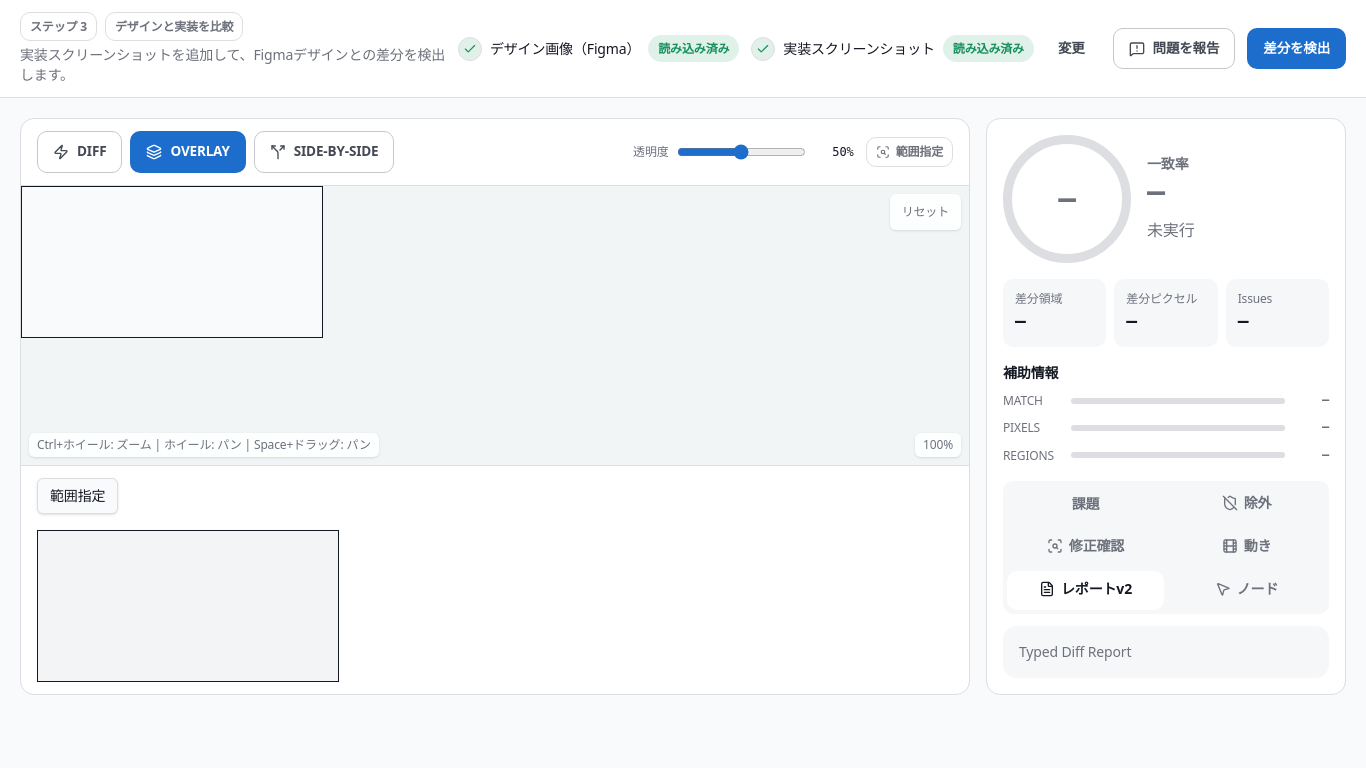
Test: ComparePage › 課題タブは比較結果がない場合の案内を表示する
Click the button "課題" at (1086, 504), box x1=1007 y1=485 x2=1164 y2=524
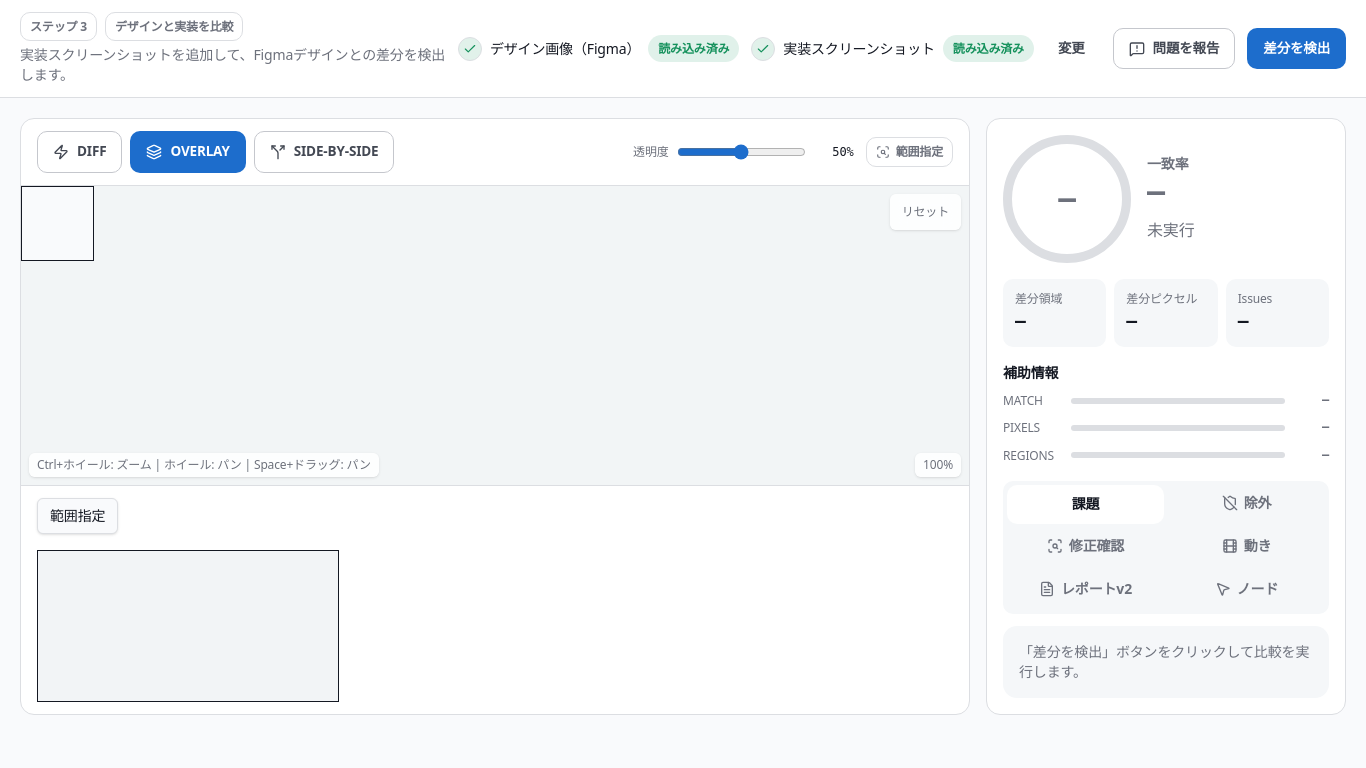
Now the text "「差分を検出」ボタンをクリックして比較を実行します。" is shown, box x1=1003 y1=626 x2=1329 y2=698
